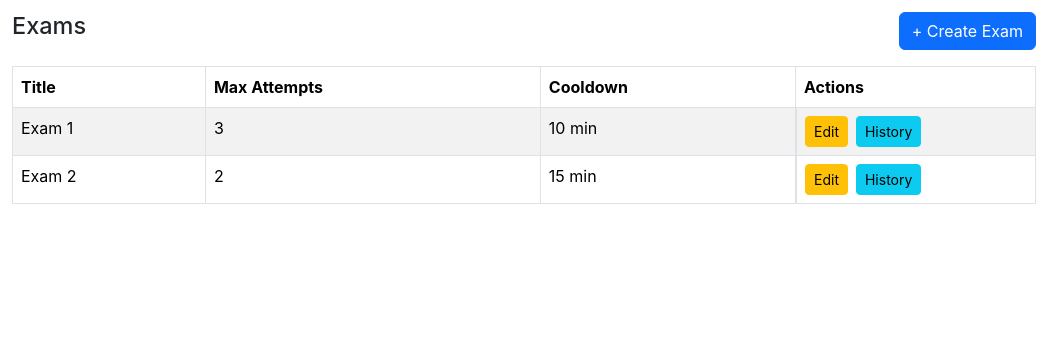
Scenario: AdminExamList › views attempt history
Click the button "History" in the row of "Exam 1": (889, 132) 856,116 -> 921,147
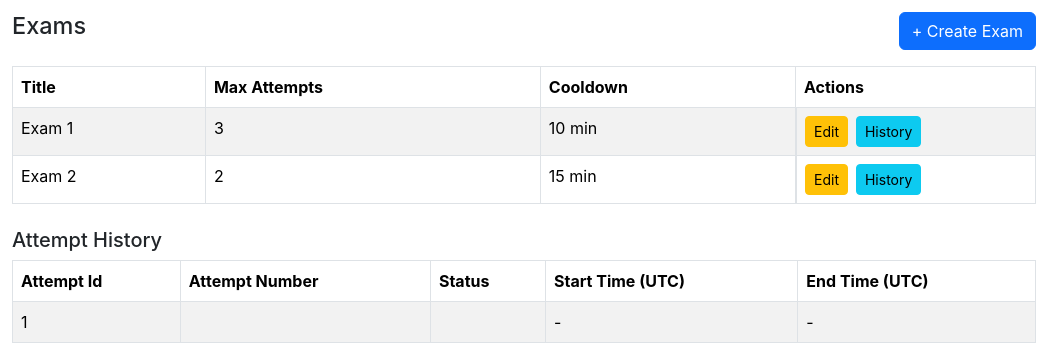
Now the heading "Attempt History" is shown, box 12,228 -> 162,252
